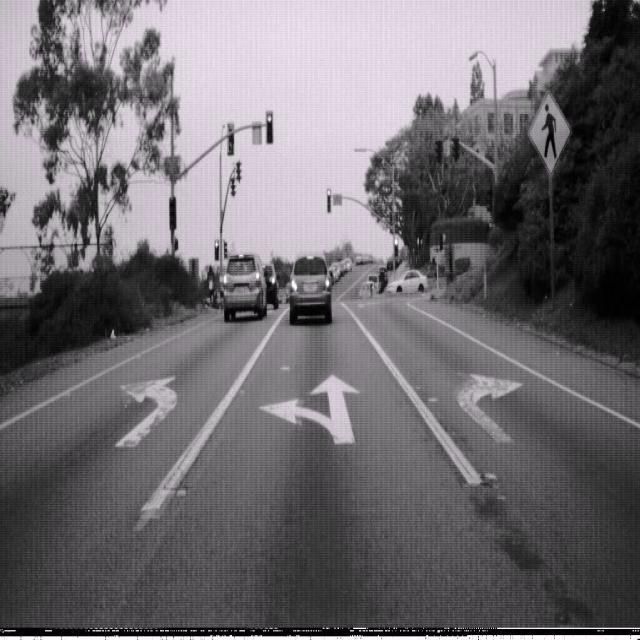pedestrianCrossing: (527, 87, 572, 174)
